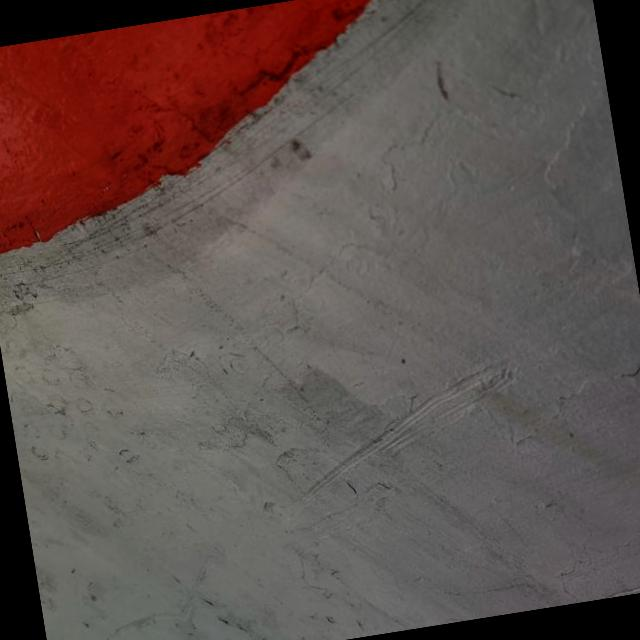scratch: (264, 338, 542, 532)
